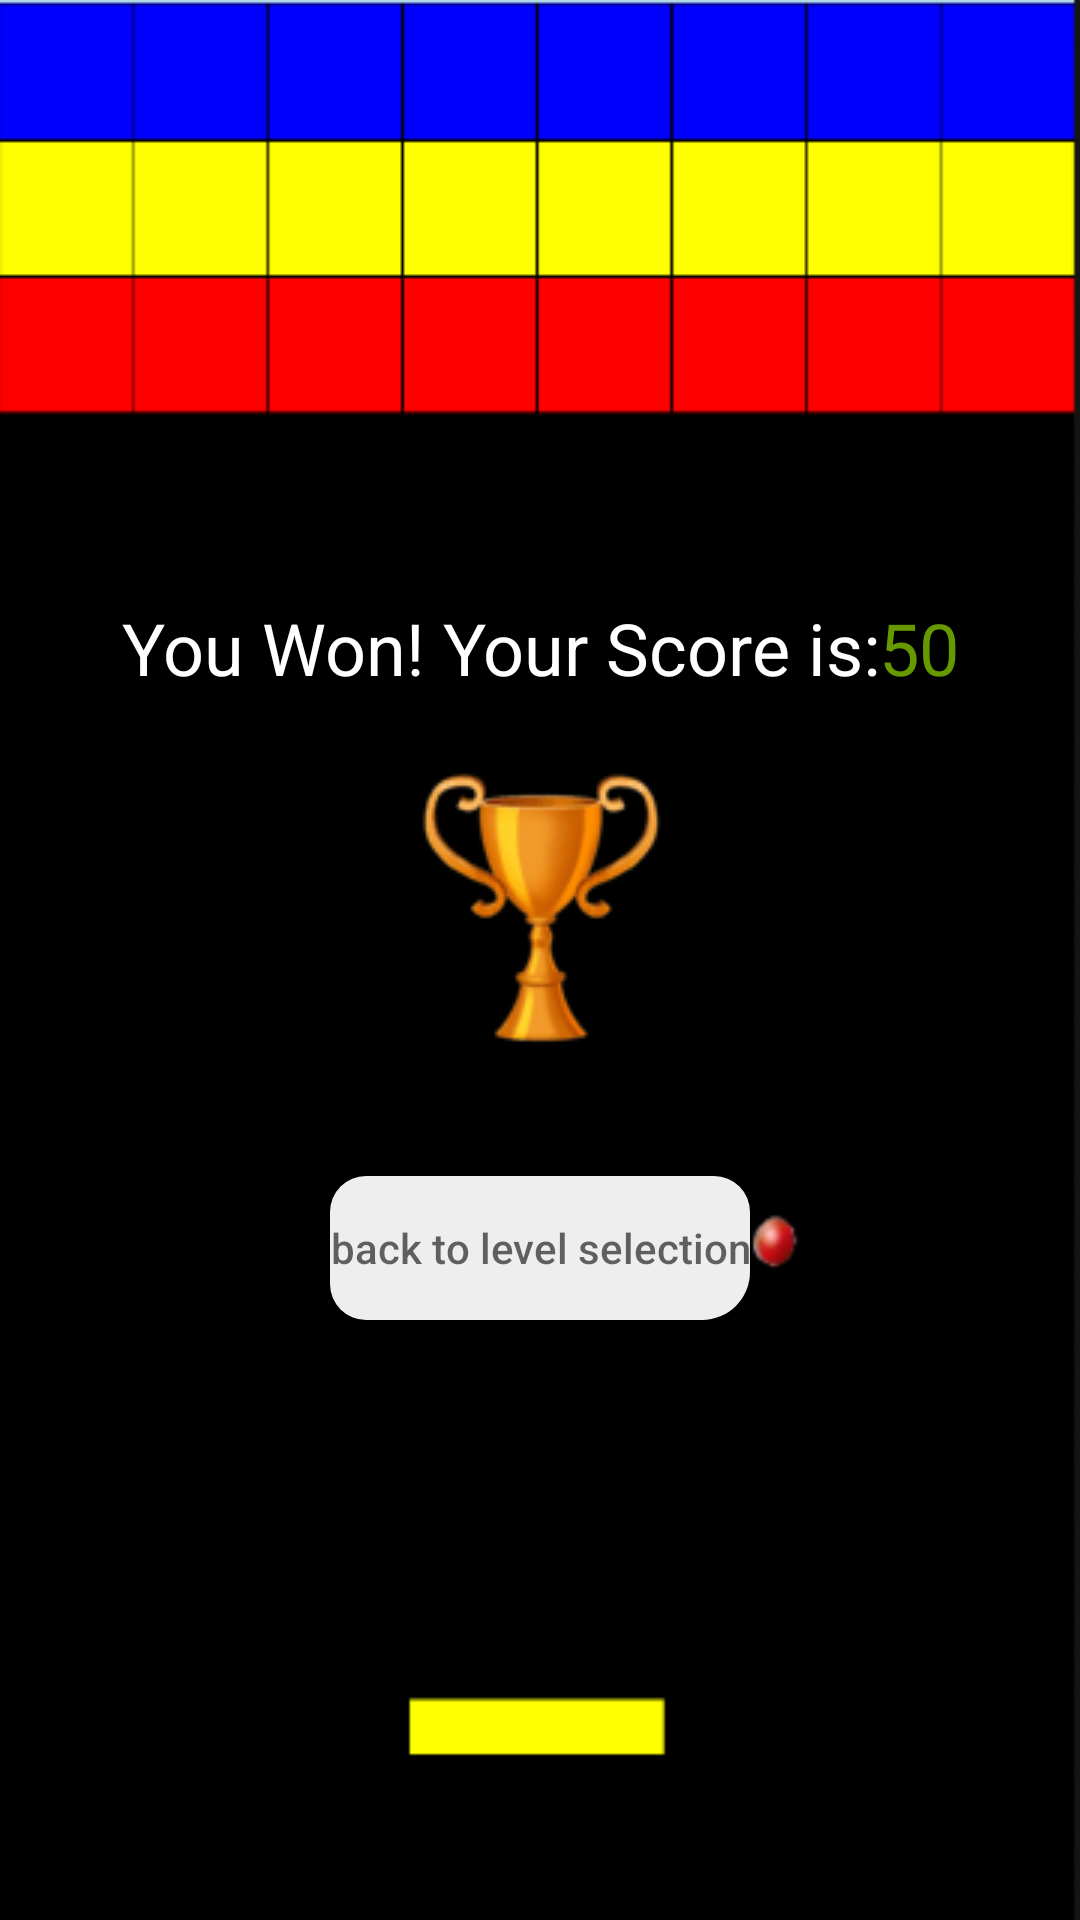

Where to tap for icons on this 1080×1920 app screen, as (x,y):
trophy: (541,907)
